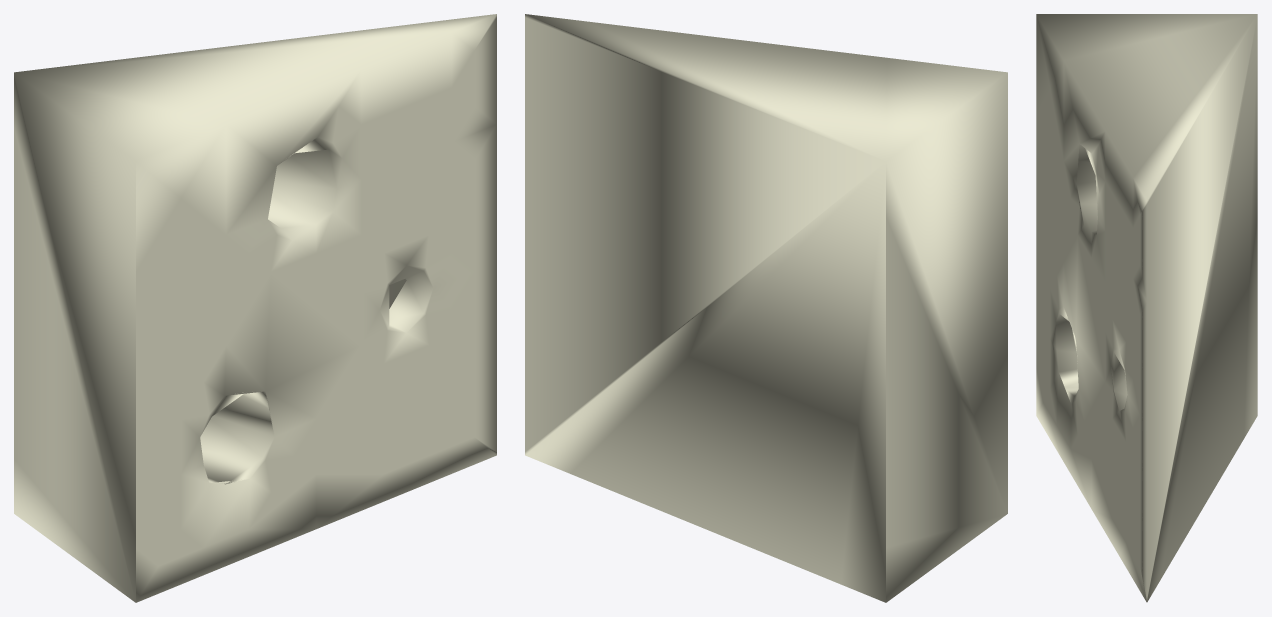
The model's file is Cheese.fbx.
The picture shows the model from 3 angles, left to right: view 1: azimuth 30°, elevation 25°; view 2: azimuth 150°, elevation 25°; view 3: azimuth 270°, elevation 25°; orthographic projection. The views are drawn at different scales.
Parts seen in each view (by area): view 1: Cheese; view 2: Cheese; view 3: Cheese.
Boxes of the visible parts, x1=… form: Cheese: x1=14, y1=14, x2=496, y2=602; Cheese: x1=525, y1=14, x2=1007, y2=602; Cheese: x1=1036, y1=14, x2=1257, y2=602.
Bounding box in the file's own units: 895 × 895 × 448.
